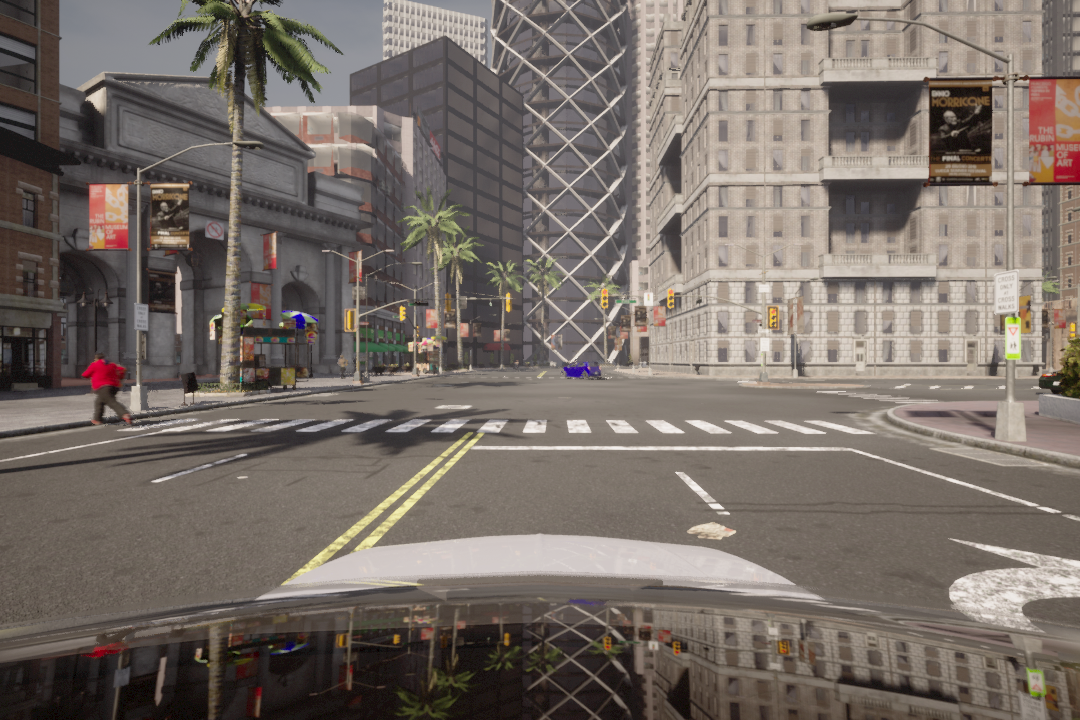TrafficLight: (766, 307, 780, 331), (667, 289, 678, 311), (601, 287, 610, 311)
TrafficSign: (204, 220, 224, 241)
walkside: (134, 403, 865, 440)
